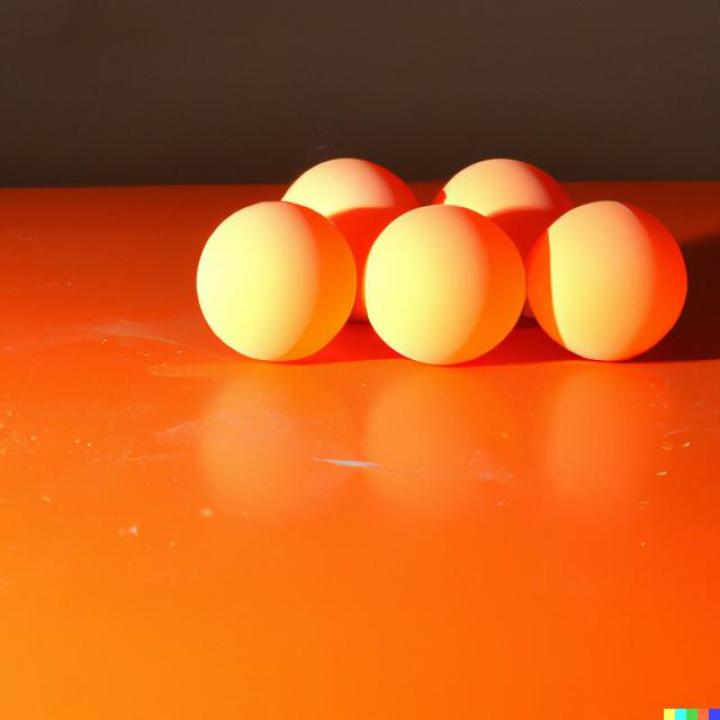orange: (364, 204, 526, 365), (198, 200, 358, 362), (530, 202, 692, 362)
